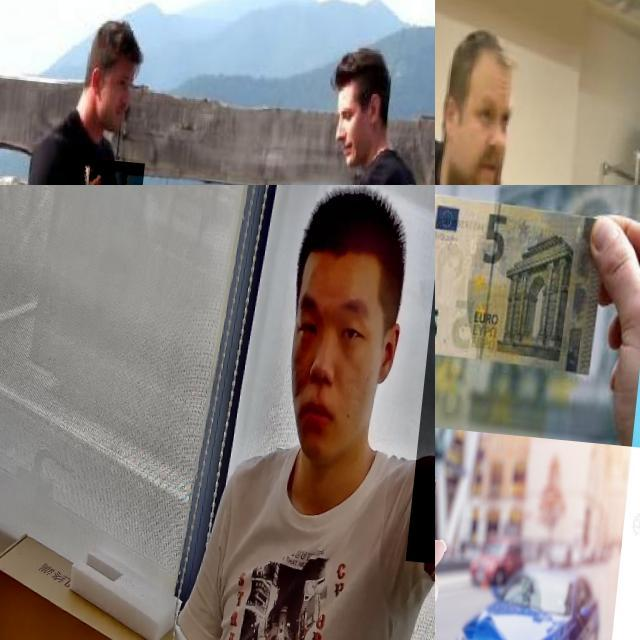-: (85, 154, 149, 185)
